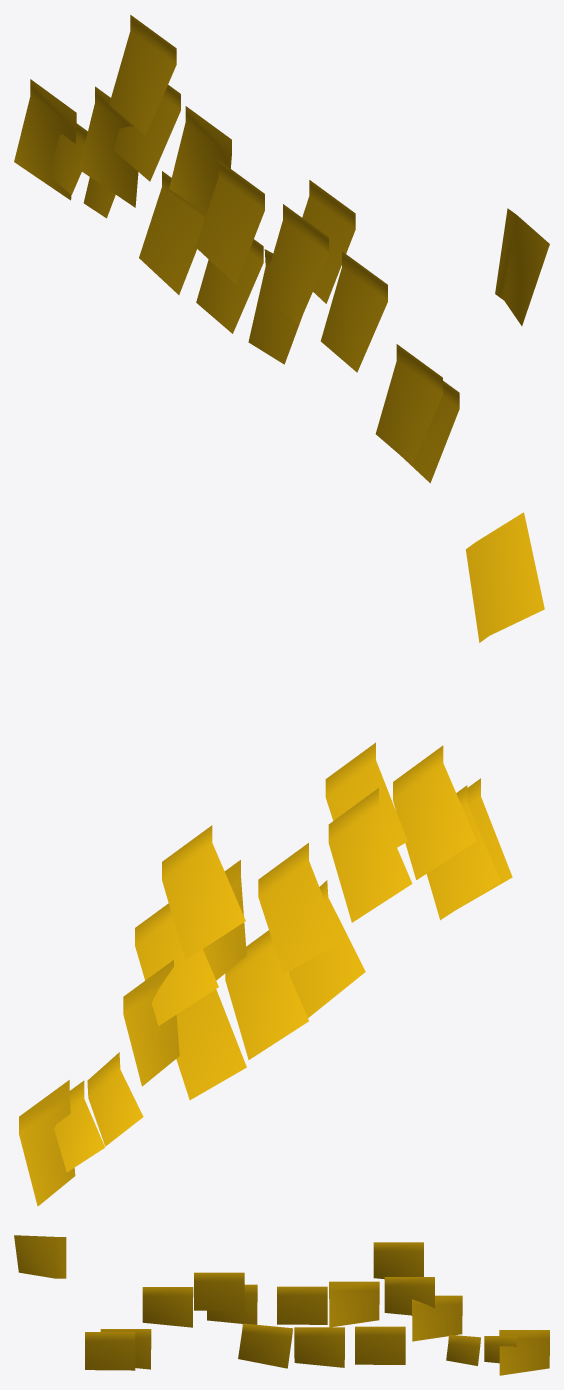
The model's file is postITs.fbx.
3 renders of one model, top to bottom at view 1: azimuth 30°, elevation 25°; view 2: azimuth 150°, elevation 25°; view 3: azimuth 270°, elevation 25°, orthographic. The views are drawn at different scales.
Visible parts, largest first — view 1: Post-IT, Post-IT (3), Post-IT (4), Post-IT (2); view 2: Post-IT, Post-IT (3), Post-IT (2), Post-IT (4); view 3: Post-IT, Post-IT (3), Post-IT (4), Post-IT (2).
Part boxes in pixels (bbox=[...]): Post-IT: bbox=[78, 15, 387, 372]; Post-IT (3): bbox=[14, 79, 442, 465]; Post-IT (4): bbox=[113, 85, 355, 303]; Post-IT (2): bbox=[48, 123, 549, 483]; Post-IT: bbox=[123, 745, 476, 1086]; Post-IT (3): bbox=[19, 785, 500, 1206]; Post-IT (2): bbox=[54, 512, 544, 1172]; Post-IT (4): bbox=[135, 742, 407, 1025]; Post-IT: bbox=[142, 1242, 462, 1341]; Post-IT (3): bbox=[100, 1323, 549, 1375]; Post-IT (4): bbox=[194, 1272, 434, 1327]; Post-IT (2): bbox=[14, 1235, 516, 1370].
Bounding box in the file's own units: 8.02 × 26.16 × 84.95.
